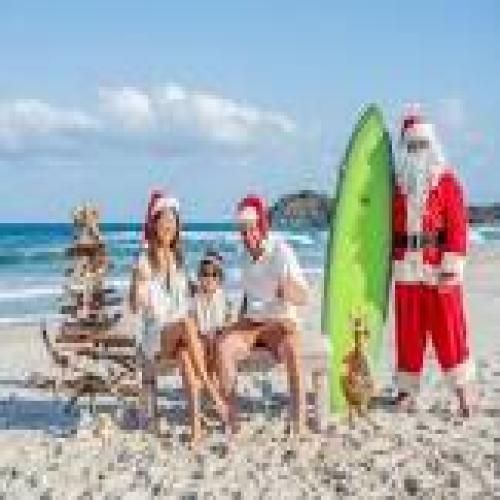Santa: (388, 106, 478, 422)
